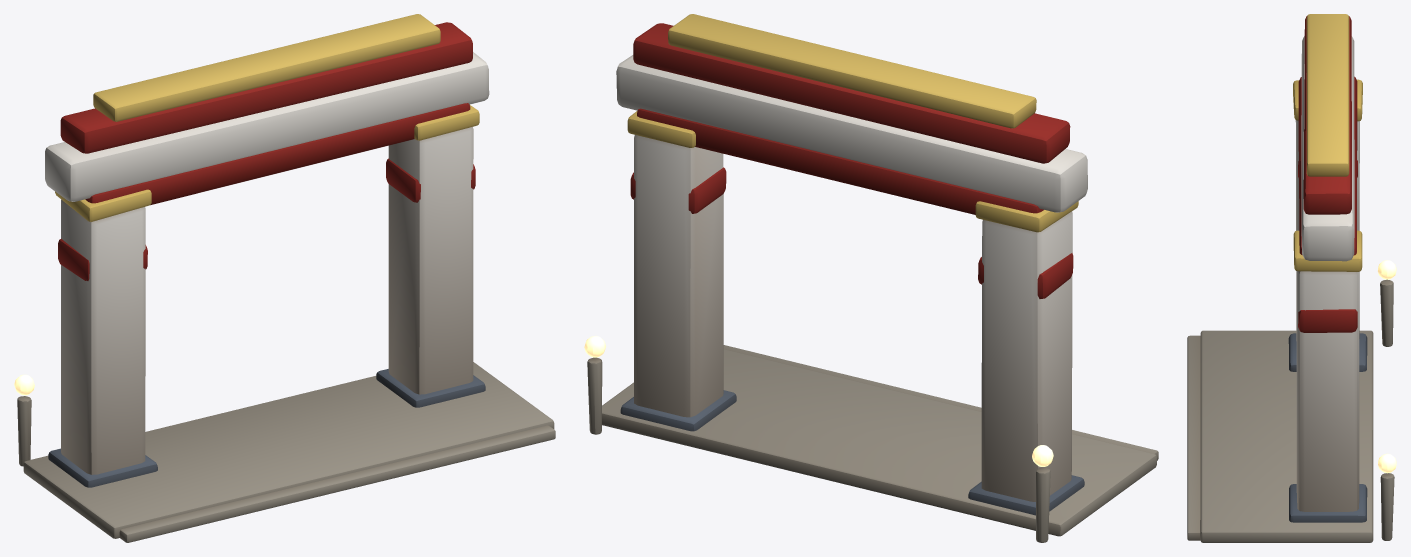
3 renders of one model, left to right at view 1: azimuth 30°, elevation 25°; view 2: azimuth 150°, elevation 25°; view 3: azimuth 270°, elevation 25°, orthographic. The views are drawn at different scales.
Visible parts, largest first — view 1: gate_5c5d612e; view 2: gate_5c5d612e; view 3: gate_5c5d612e.
Part boxes in pixels (<box>): gate_5c5d612e: <box>14,14,555,542</box>; gate_5c5d612e: <box>584,14,1158,542</box>; gate_5c5d612e: <box>1187,14,1396,542</box>.
Size of the model in its own units: 5.83 by 4.77 by 2.55.
